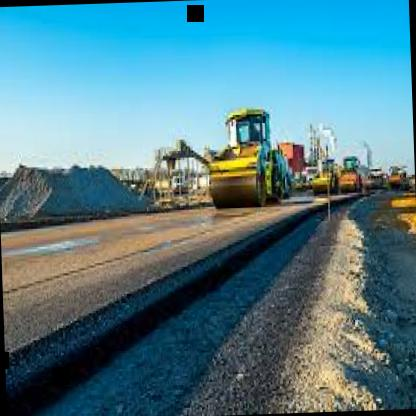car: (203, 90, 292, 214), (339, 122, 371, 207), (310, 137, 340, 206)
